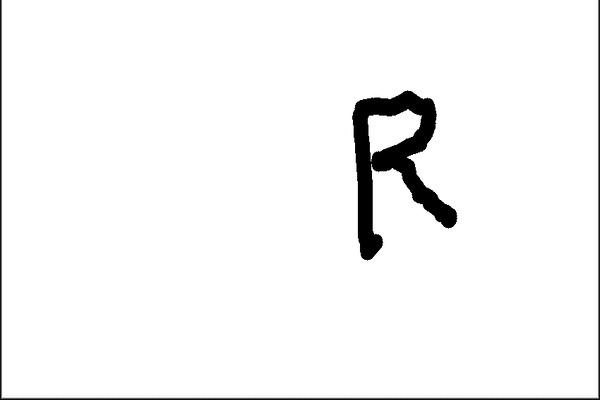R: (344, 86, 460, 263)
